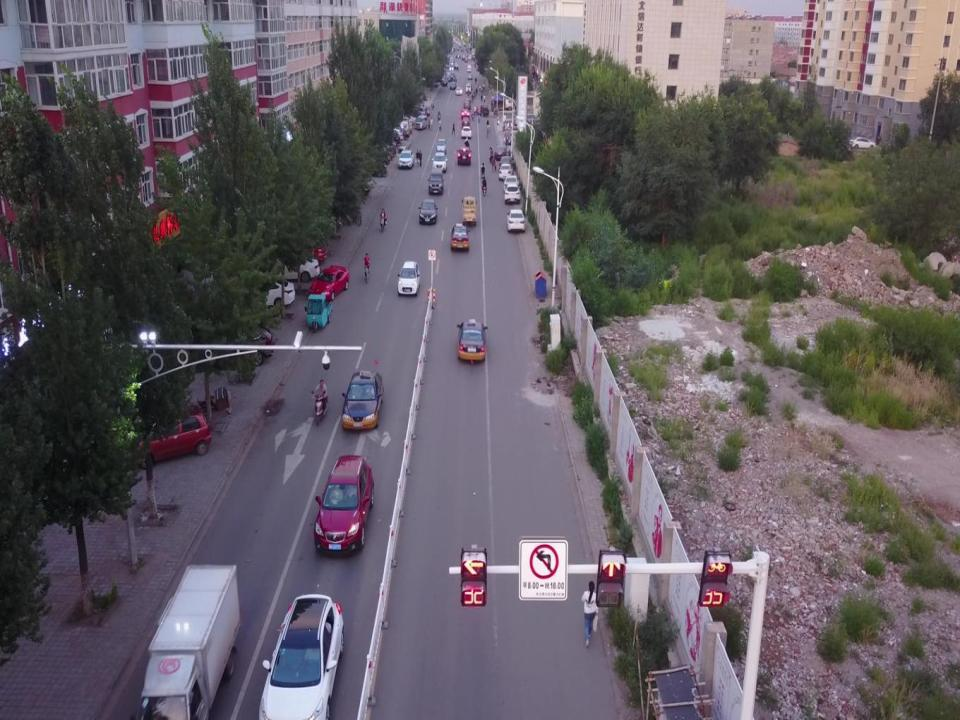car: (261, 596, 335, 720), (317, 456, 374, 558), (137, 405, 209, 458), (347, 370, 383, 431), (249, 276, 297, 312), (458, 317, 486, 364), (274, 255, 320, 282), (315, 273, 351, 295), (398, 260, 419, 296), (426, 166, 444, 192), (420, 197, 436, 226), (453, 220, 469, 248), (507, 210, 524, 235), (503, 179, 520, 203), (430, 153, 448, 170), (457, 147, 472, 167), (499, 160, 513, 179), (400, 150, 414, 168), (436, 138, 448, 156), (498, 155, 514, 167), (458, 126, 474, 138), (461, 108, 471, 120), (463, 97, 472, 109), (463, 117, 472, 127), (456, 85, 461, 95)
truck: (142, 563, 238, 720)
van: (414, 117, 428, 127)
